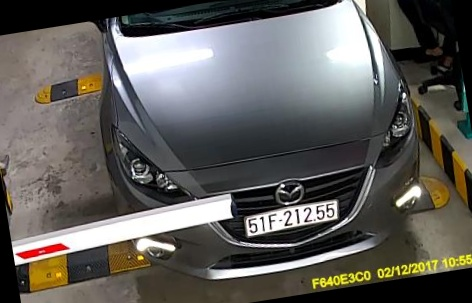plate: (235, 198, 348, 243)
